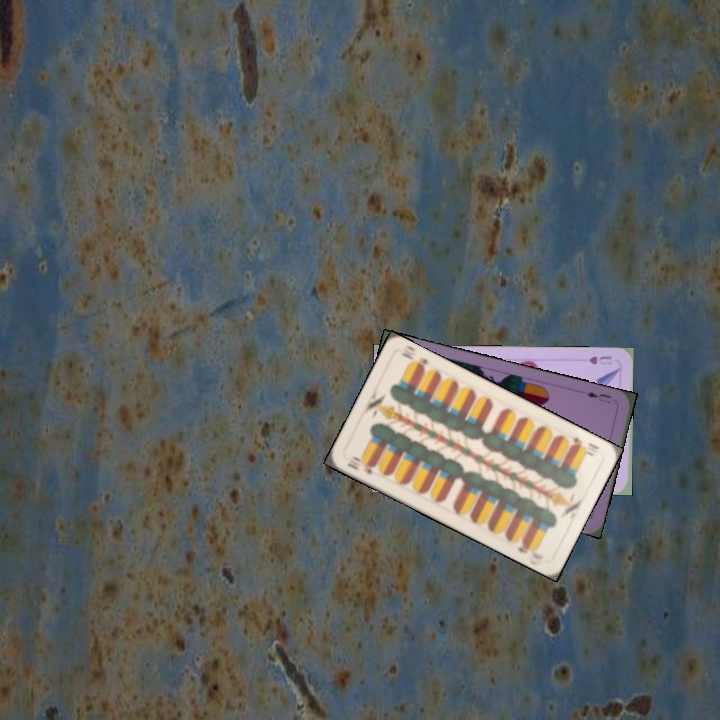E10: (567, 433, 601, 459), (343, 452, 378, 477)
EU: (582, 388, 614, 406)
HU: (585, 352, 614, 368)
